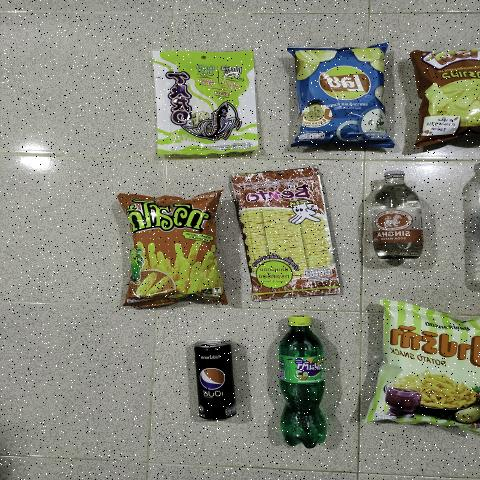bento_red: (237, 168, 346, 295)
fanta_green: (273, 314, 324, 452)
lay_blue: (307, 50, 385, 147)
paprika: (363, 310, 480, 426)
pepsi_black: (195, 337, 241, 421)
singha_soda: (370, 167, 426, 261)
taro_yellow: (158, 52, 254, 147)
twisco: (126, 196, 222, 298)
